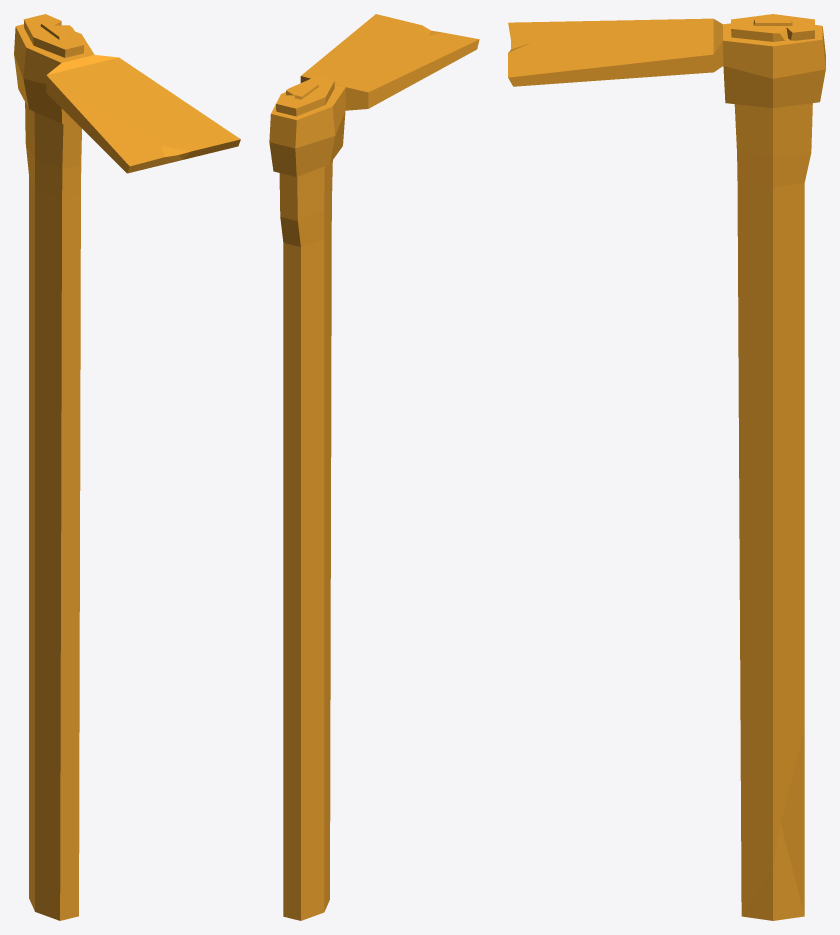
Rendered from SM_Hoe_Farm.fbx.
3 renders of one model, left to right at view 1: azimuth 30°, elevation 25°; view 2: azimuth 150°, elevation 25°; view 3: azimuth 270°, elevation 25°, orthographic. The views are drawn at different scales.
Parts seen in each view (by area): view 1: hoe-farm; view 2: hoe-farm; view 3: hoe-farm.
Boxes of the visible parts, <box> form: hoe-farm: <box>14,14,240,920</box>; hoe-farm: <box>269,14,479,920</box>; hoe-farm: <box>508,14,825,920</box>.
Size of the model in its own units: 0.1239 by 0.9349 by 0.3025.
